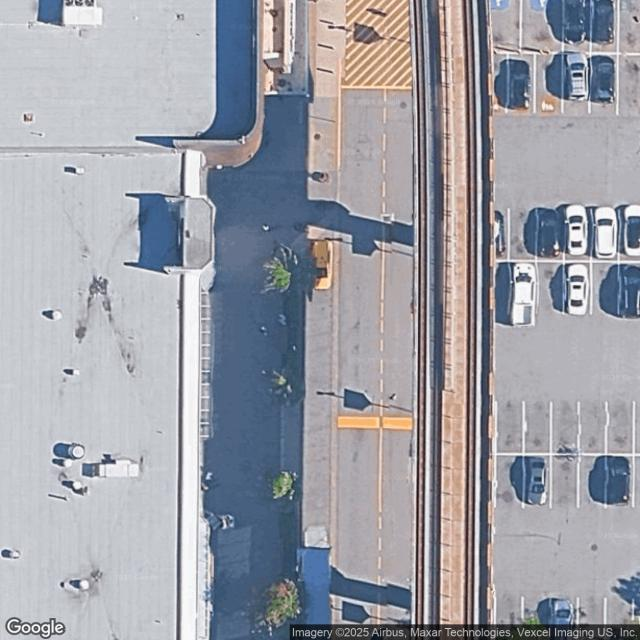car: (508, 263, 536, 325), (614, 264, 640, 317), (588, 55, 616, 103), (593, 206, 618, 258), (537, 208, 562, 259), (605, 454, 630, 505), (550, 597, 577, 640), (568, 264, 590, 316), (508, 63, 531, 111), (526, 458, 549, 503), (560, 0, 584, 43), (566, 53, 588, 99), (590, 0, 613, 43), (567, 205, 584, 256), (624, 205, 640, 258), (495, 210, 506, 256)
lot_boundary: (488, 0, 639, 639)
